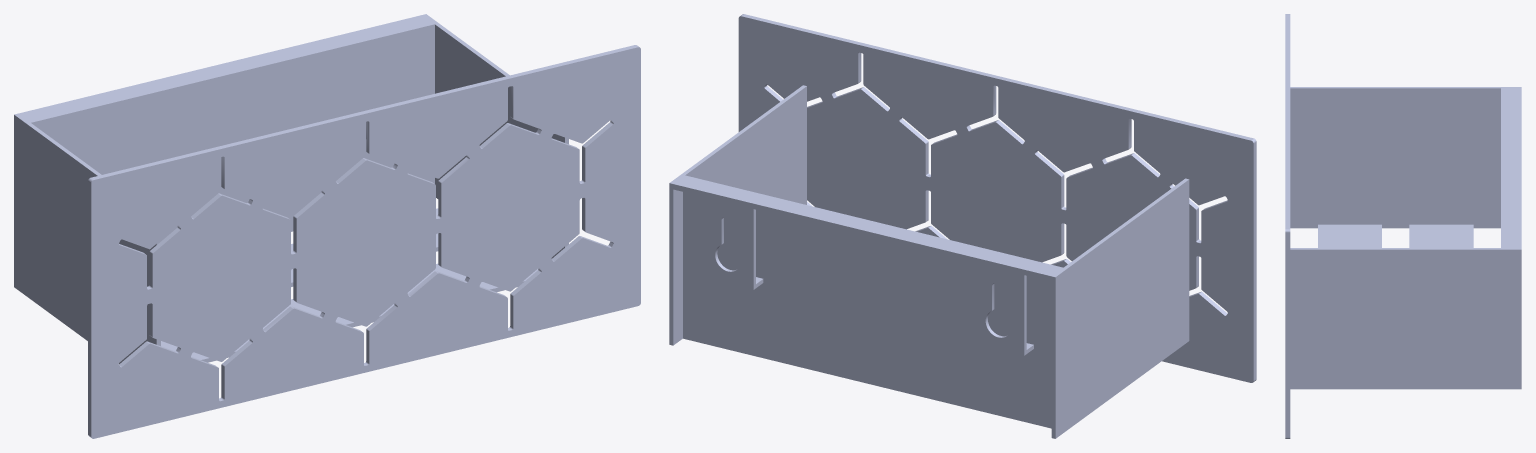
Rendered from bee-mono.2cab3965f2.glb.
The picture shows the model from 3 angles, left to right: view 1: azimuth 30°, elevation 25°; view 2: azimuth 150°, elevation 25°; view 3: azimuth 270°, elevation 25°; orthographic projection. The views are drawn at different scales.
Visible parts, largest first — view 1: NAUO1; view 2: NAUO1; view 3: NAUO1.
Part boxes in pixels (bbox=[...]): NAUO1: bbox=[14, 14, 640, 438]; NAUO1: bbox=[669, 14, 1256, 438]; NAUO1: bbox=[1285, 14, 1521, 438].
Bounding box in the file's own units: 0.2 × 0.09 × 0.092.
